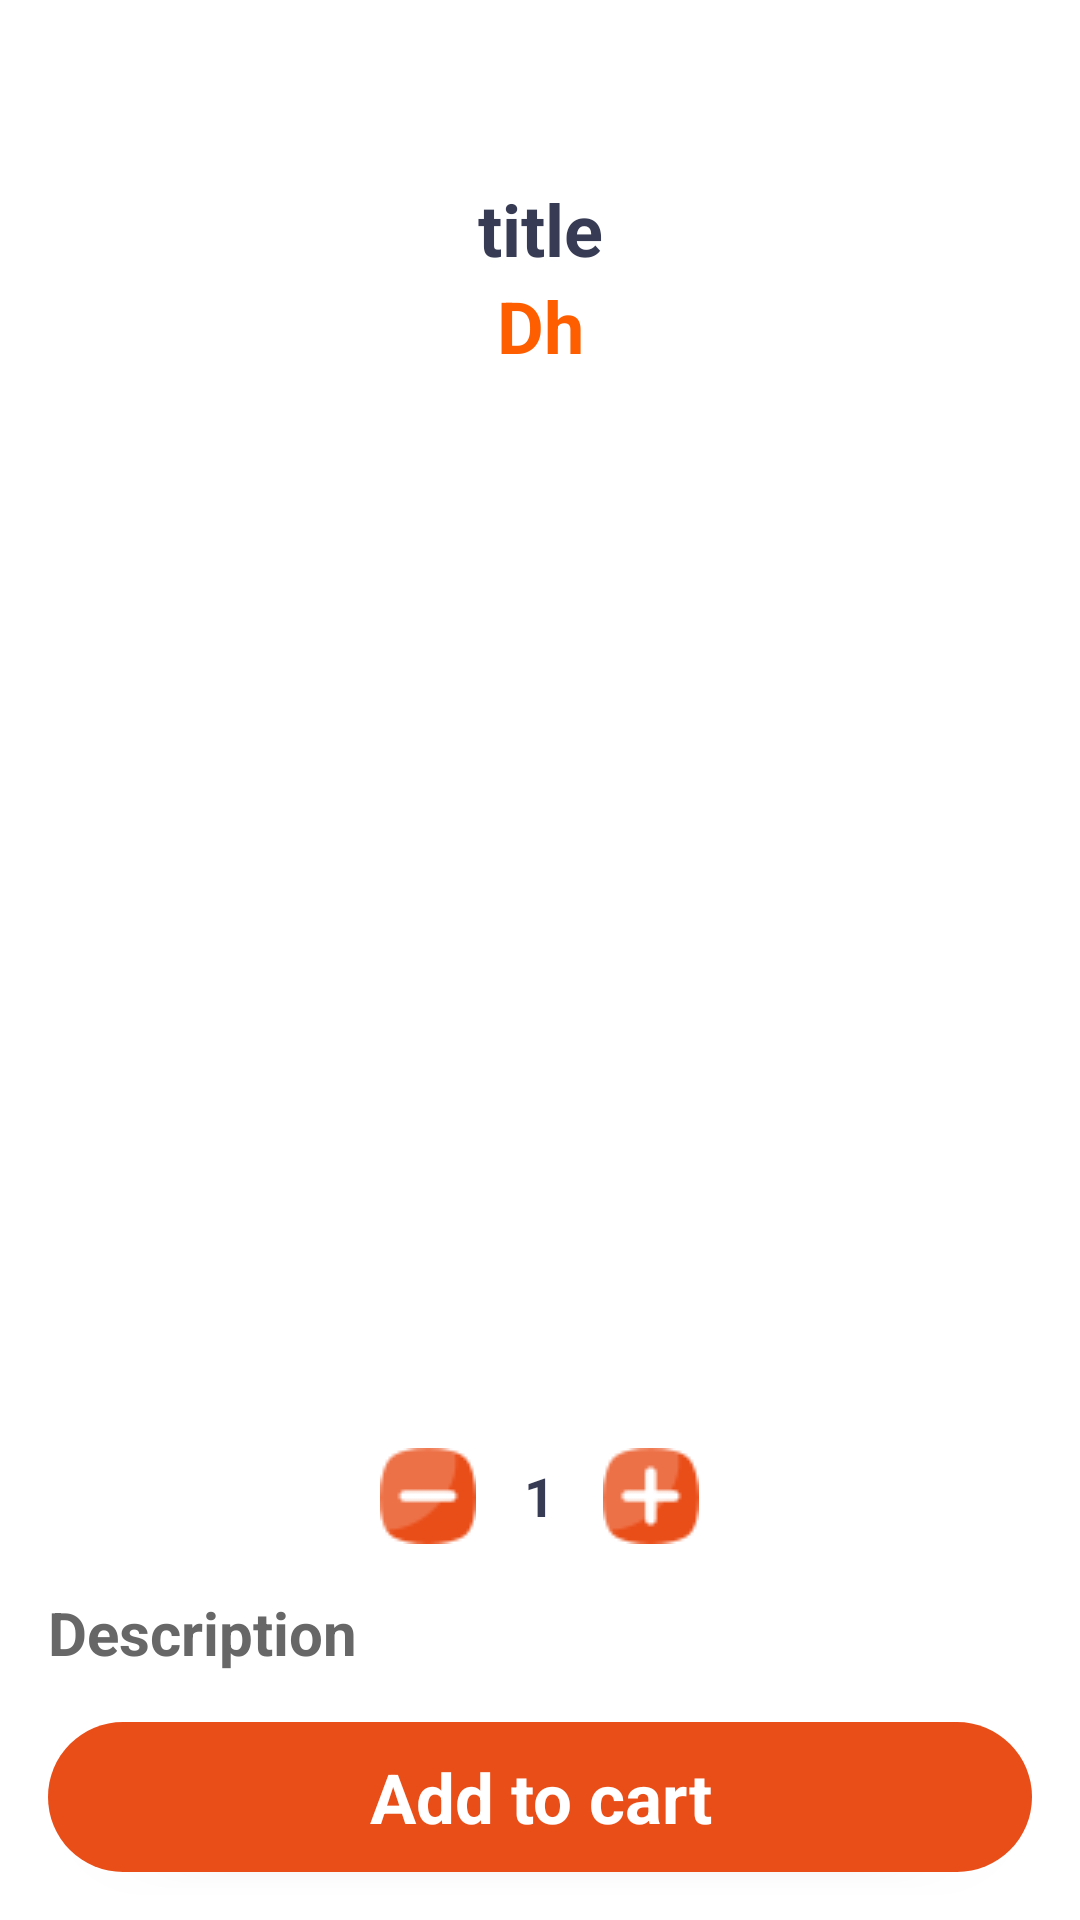

Screen size 1080*1920. Icon name, then its box in pixels as {"left": x1, "top": y1, "right": x2, "bottom": y2}:
minus: {"left": 380, "top": 1448, "right": 476, "bottom": 1544}
plus: {"left": 603, "top": 1448, "right": 699, "bottom": 1544}
